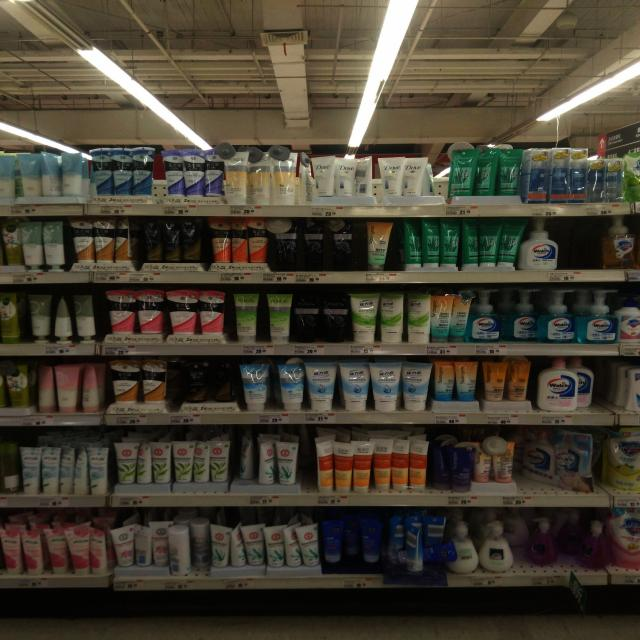empty_space: (559, 221, 584, 265)
